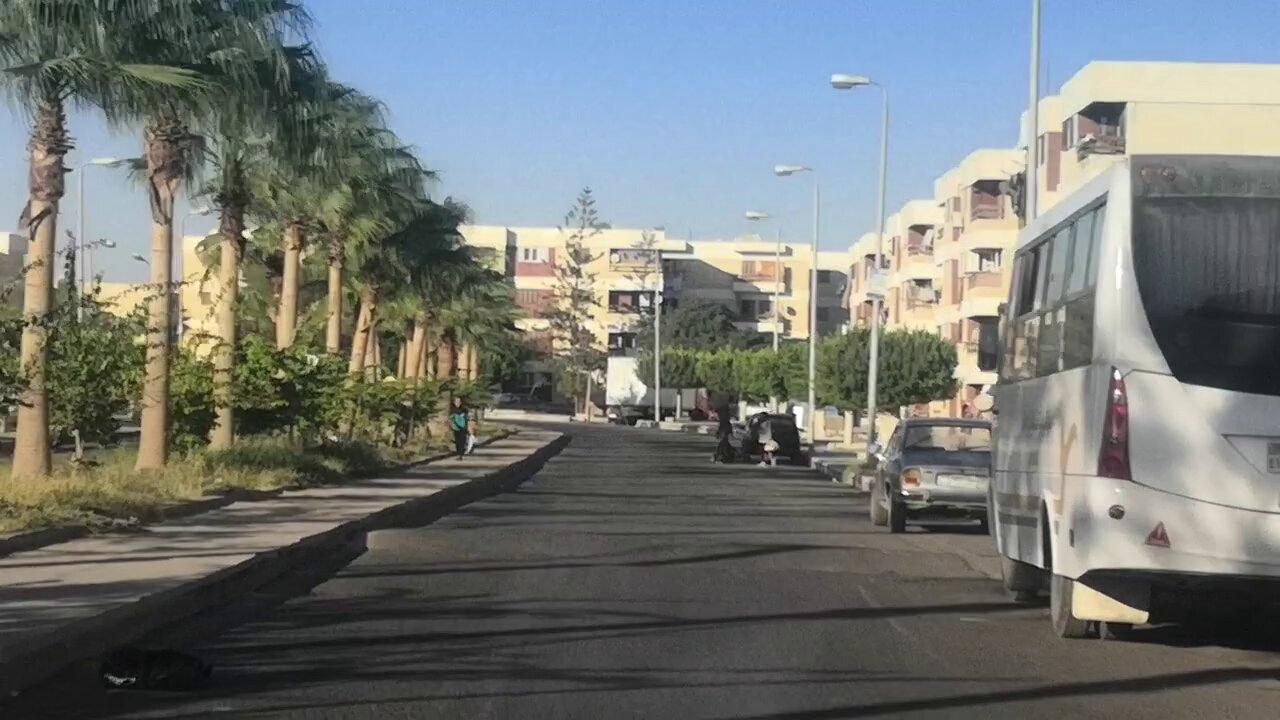Bump: (372, 525, 977, 577)
